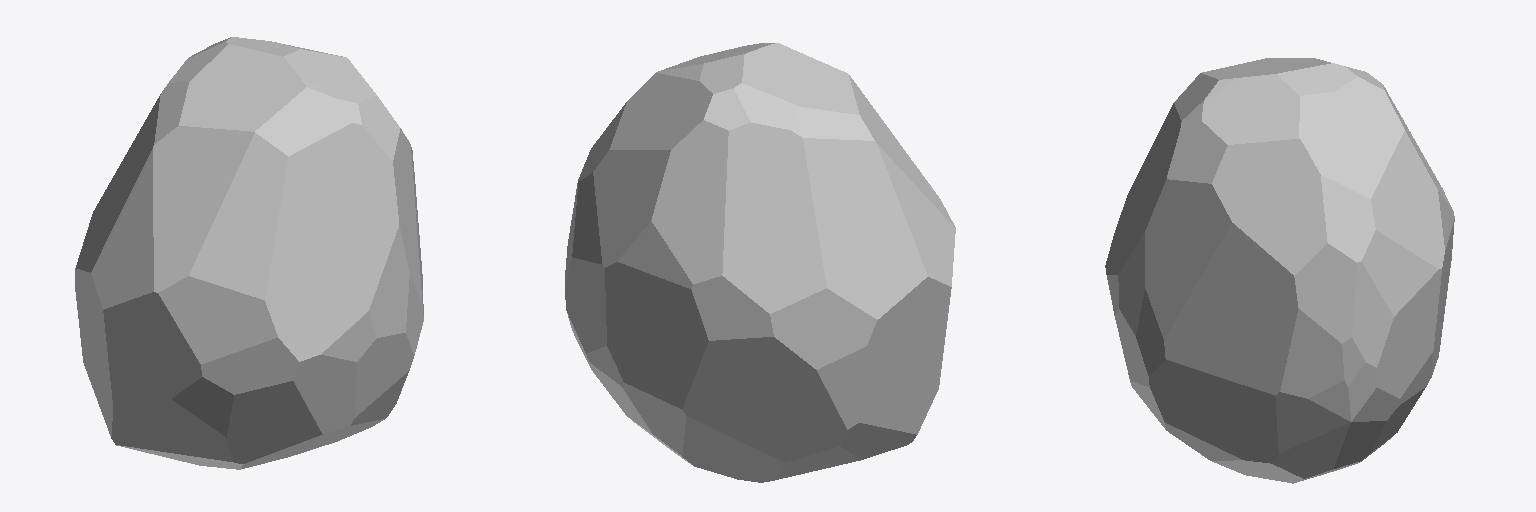
Rendered from smallStone3.obj.
3 views of the same model, side by side, from view 1: azimuth 30°, elevation 25°; view 2: azimuth 150°, elevation 25°; view 3: azimuth 270°, elevation 25° (orthographic).
Parts seen in each view (by area): view 1: Icosphere_006; view 2: Icosphere_006; view 3: Icosphere_006.
Boxes of the visible parts, <box> form: Icosphere_006: <box>75,37,423,469</box>; Icosphere_006: <box>565,43,955,482</box>; Icosphere_006: <box>1105,58,1454,483</box>.
Size of the model in its own units: 66.43 by 73.38 by 59.75.